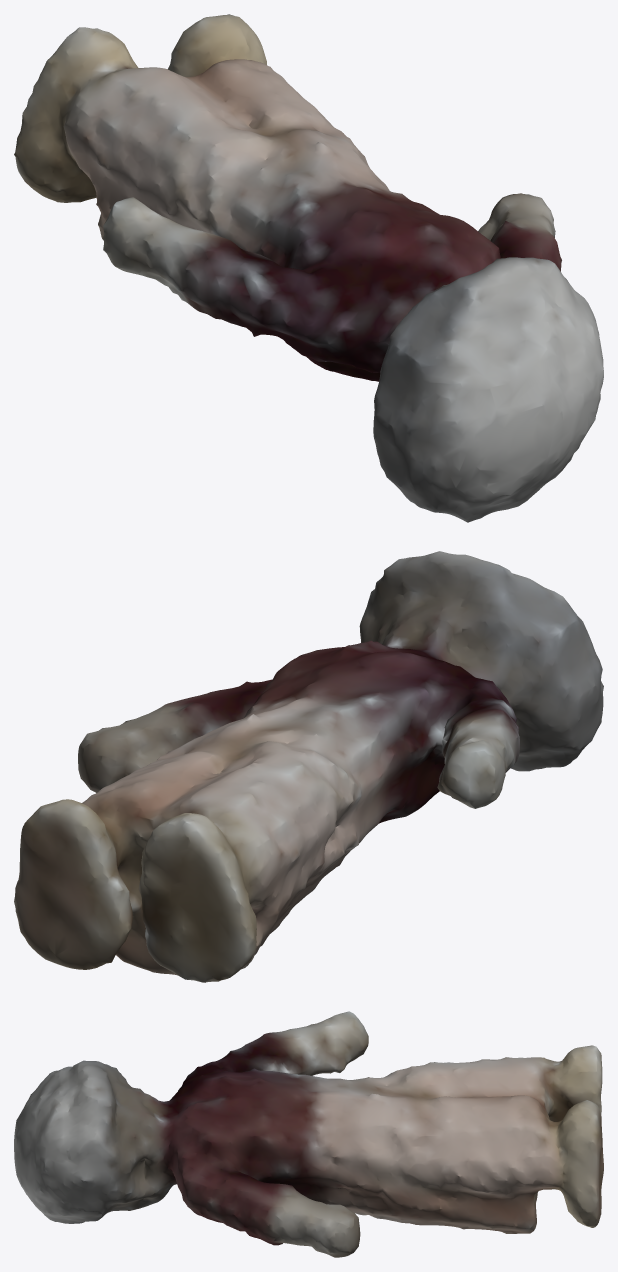
Rendered from grandmother.glb.
3 renders of one model, top to bottom at view 1: azimuth 30°, elevation 25°; view 2: azimuth 150°, elevation 25°; view 3: azimuth 270°, elevation 25°, orthographic. The views are drawn at different scales.
Bounding box in the file's own units: 0.6109 × 0.2934 × 0.9957.
